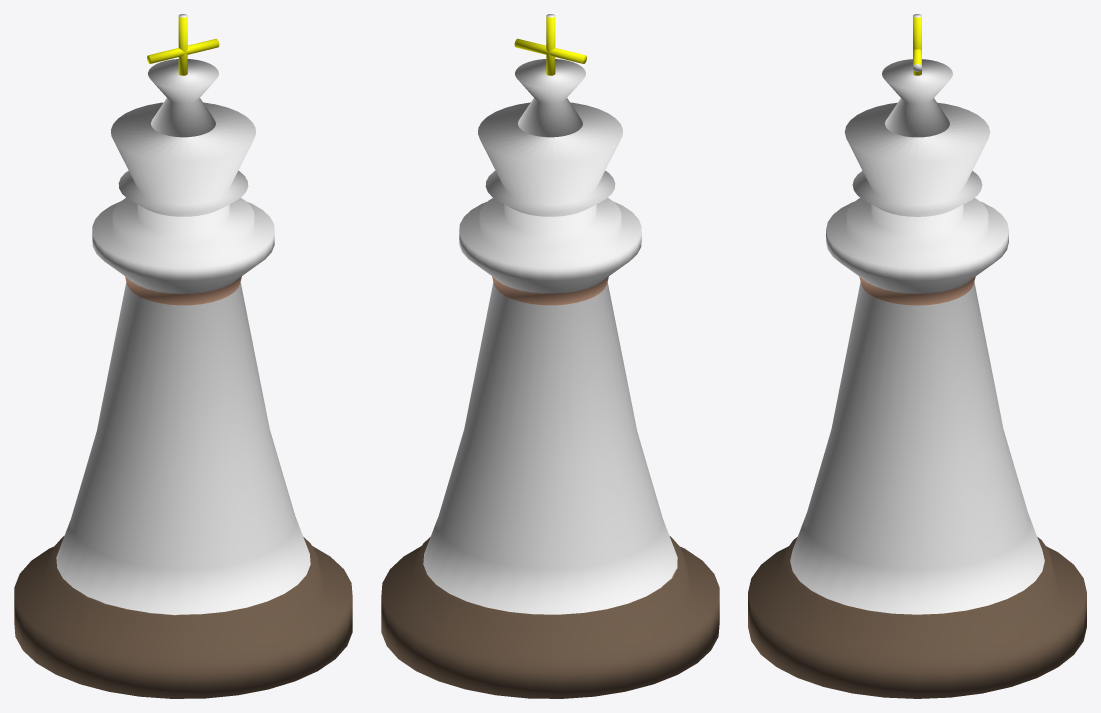
The model's file is King.gltf.
3 views of the same model, side by side, from view 1: azimuth 30°, elevation 25°; view 2: azimuth 150°, elevation 25°; view 3: azimuth 270°, elevation 25° (orthographic).
Visible parts, largest first — view 1: キング; view 2: キング; view 3: キング.
Boxes of the visible parts, x1,y1,x2,y2 form: キング: (14, 14, 352, 698); キング: (381, 14, 719, 698); キング: (748, 14, 1086, 698).
Bounding box in the file's own units: 0.8681 × 1.73 × 0.8681.
1 material, 1 textured.
